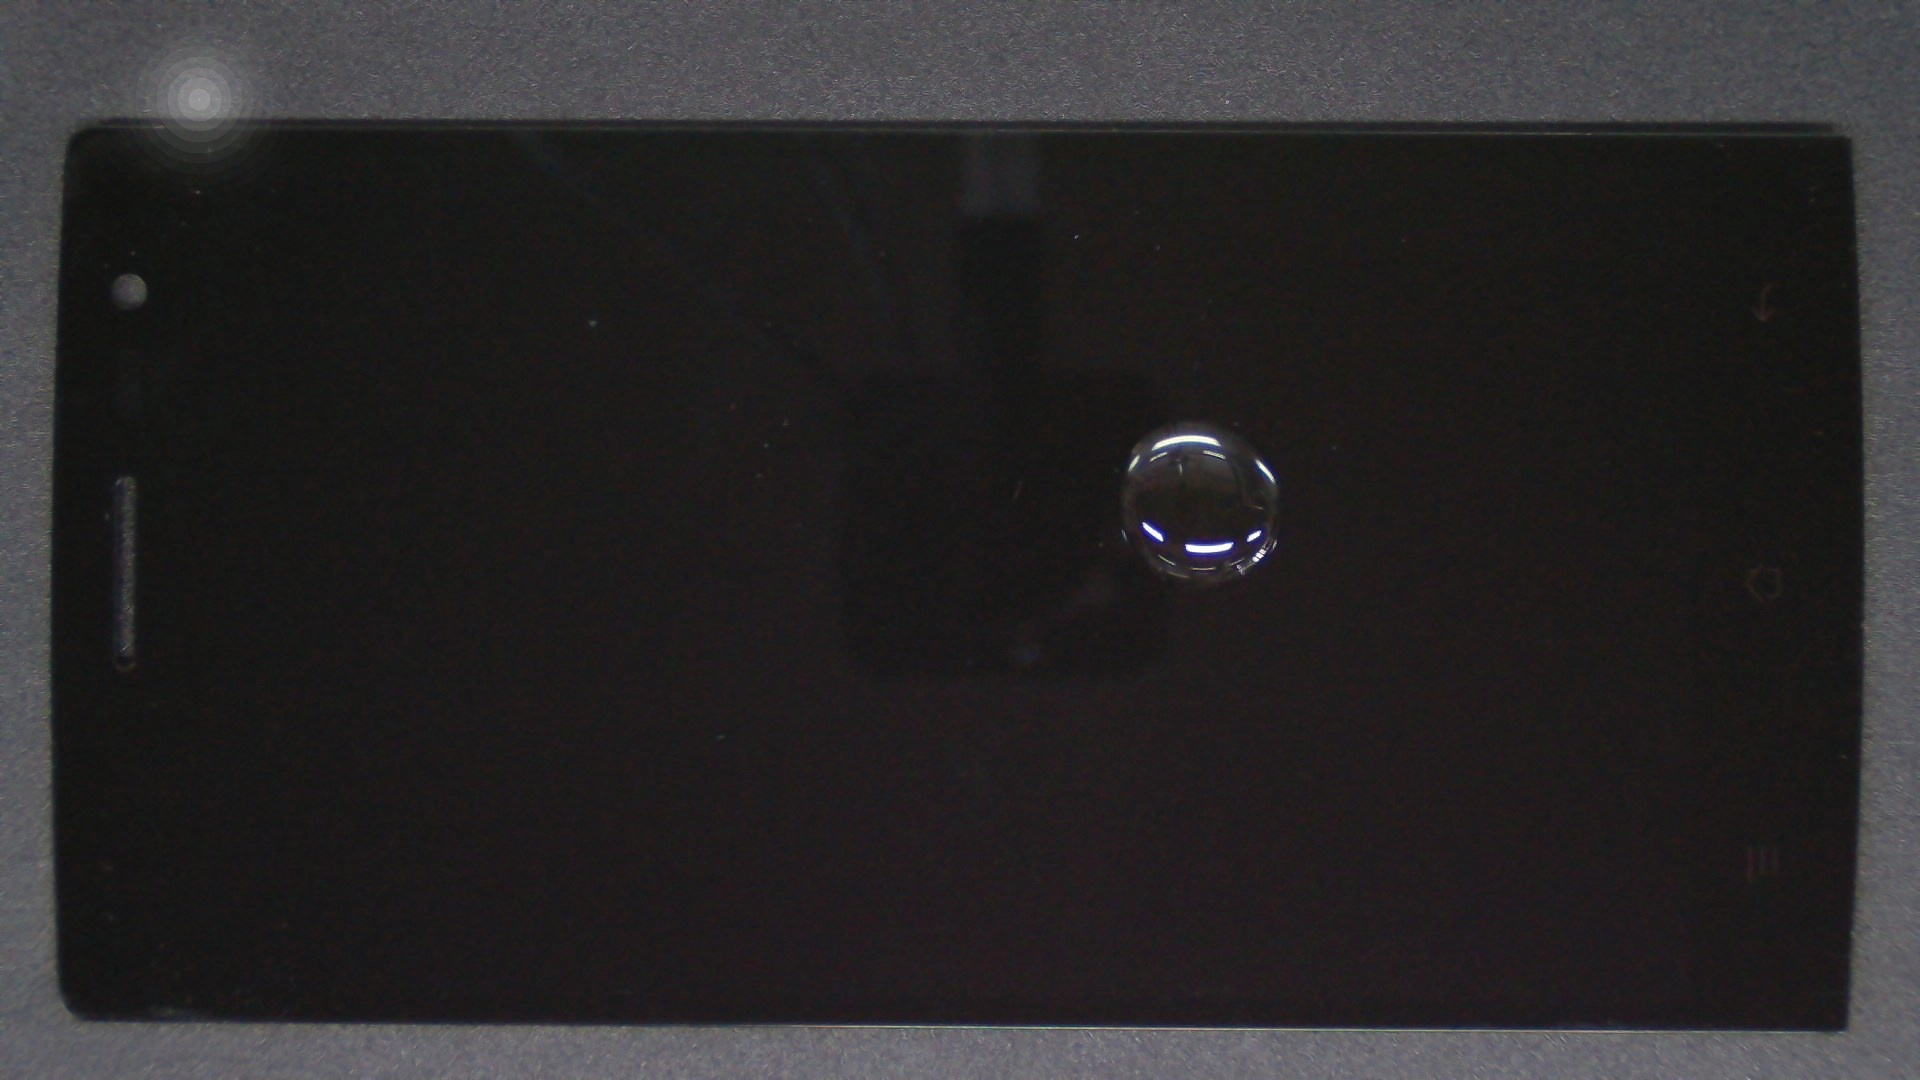oil: (591, 211, 1770, 633)
